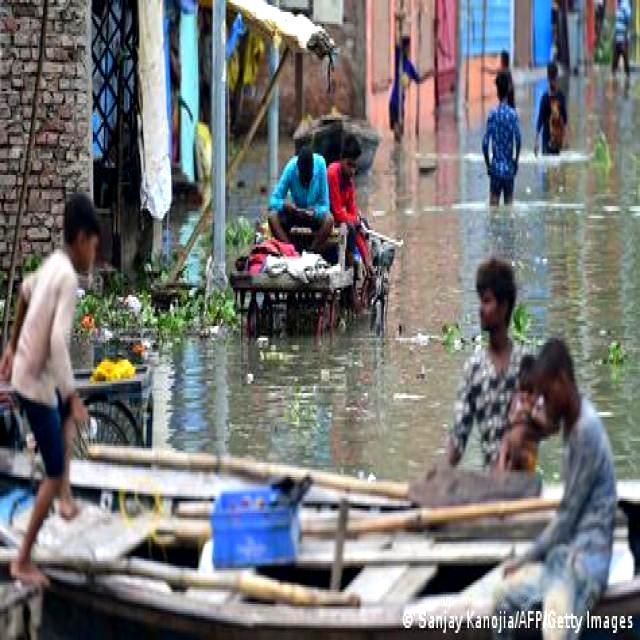civilian: (7, 185, 115, 610), (490, 330, 622, 640), (436, 252, 536, 493), (464, 69, 534, 220), (264, 125, 334, 270), (325, 132, 379, 276), (387, 30, 435, 153), (533, 61, 579, 171), (502, 347, 541, 469), (605, 0, 635, 90), (426, 17, 459, 91), (482, 40, 520, 78)
